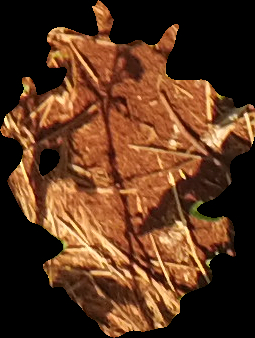soil: (1, 1, 253, 338)
